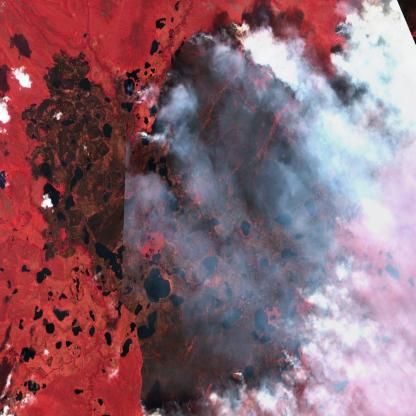fire: (123, 0, 416, 174), (140, 250, 354, 416)
